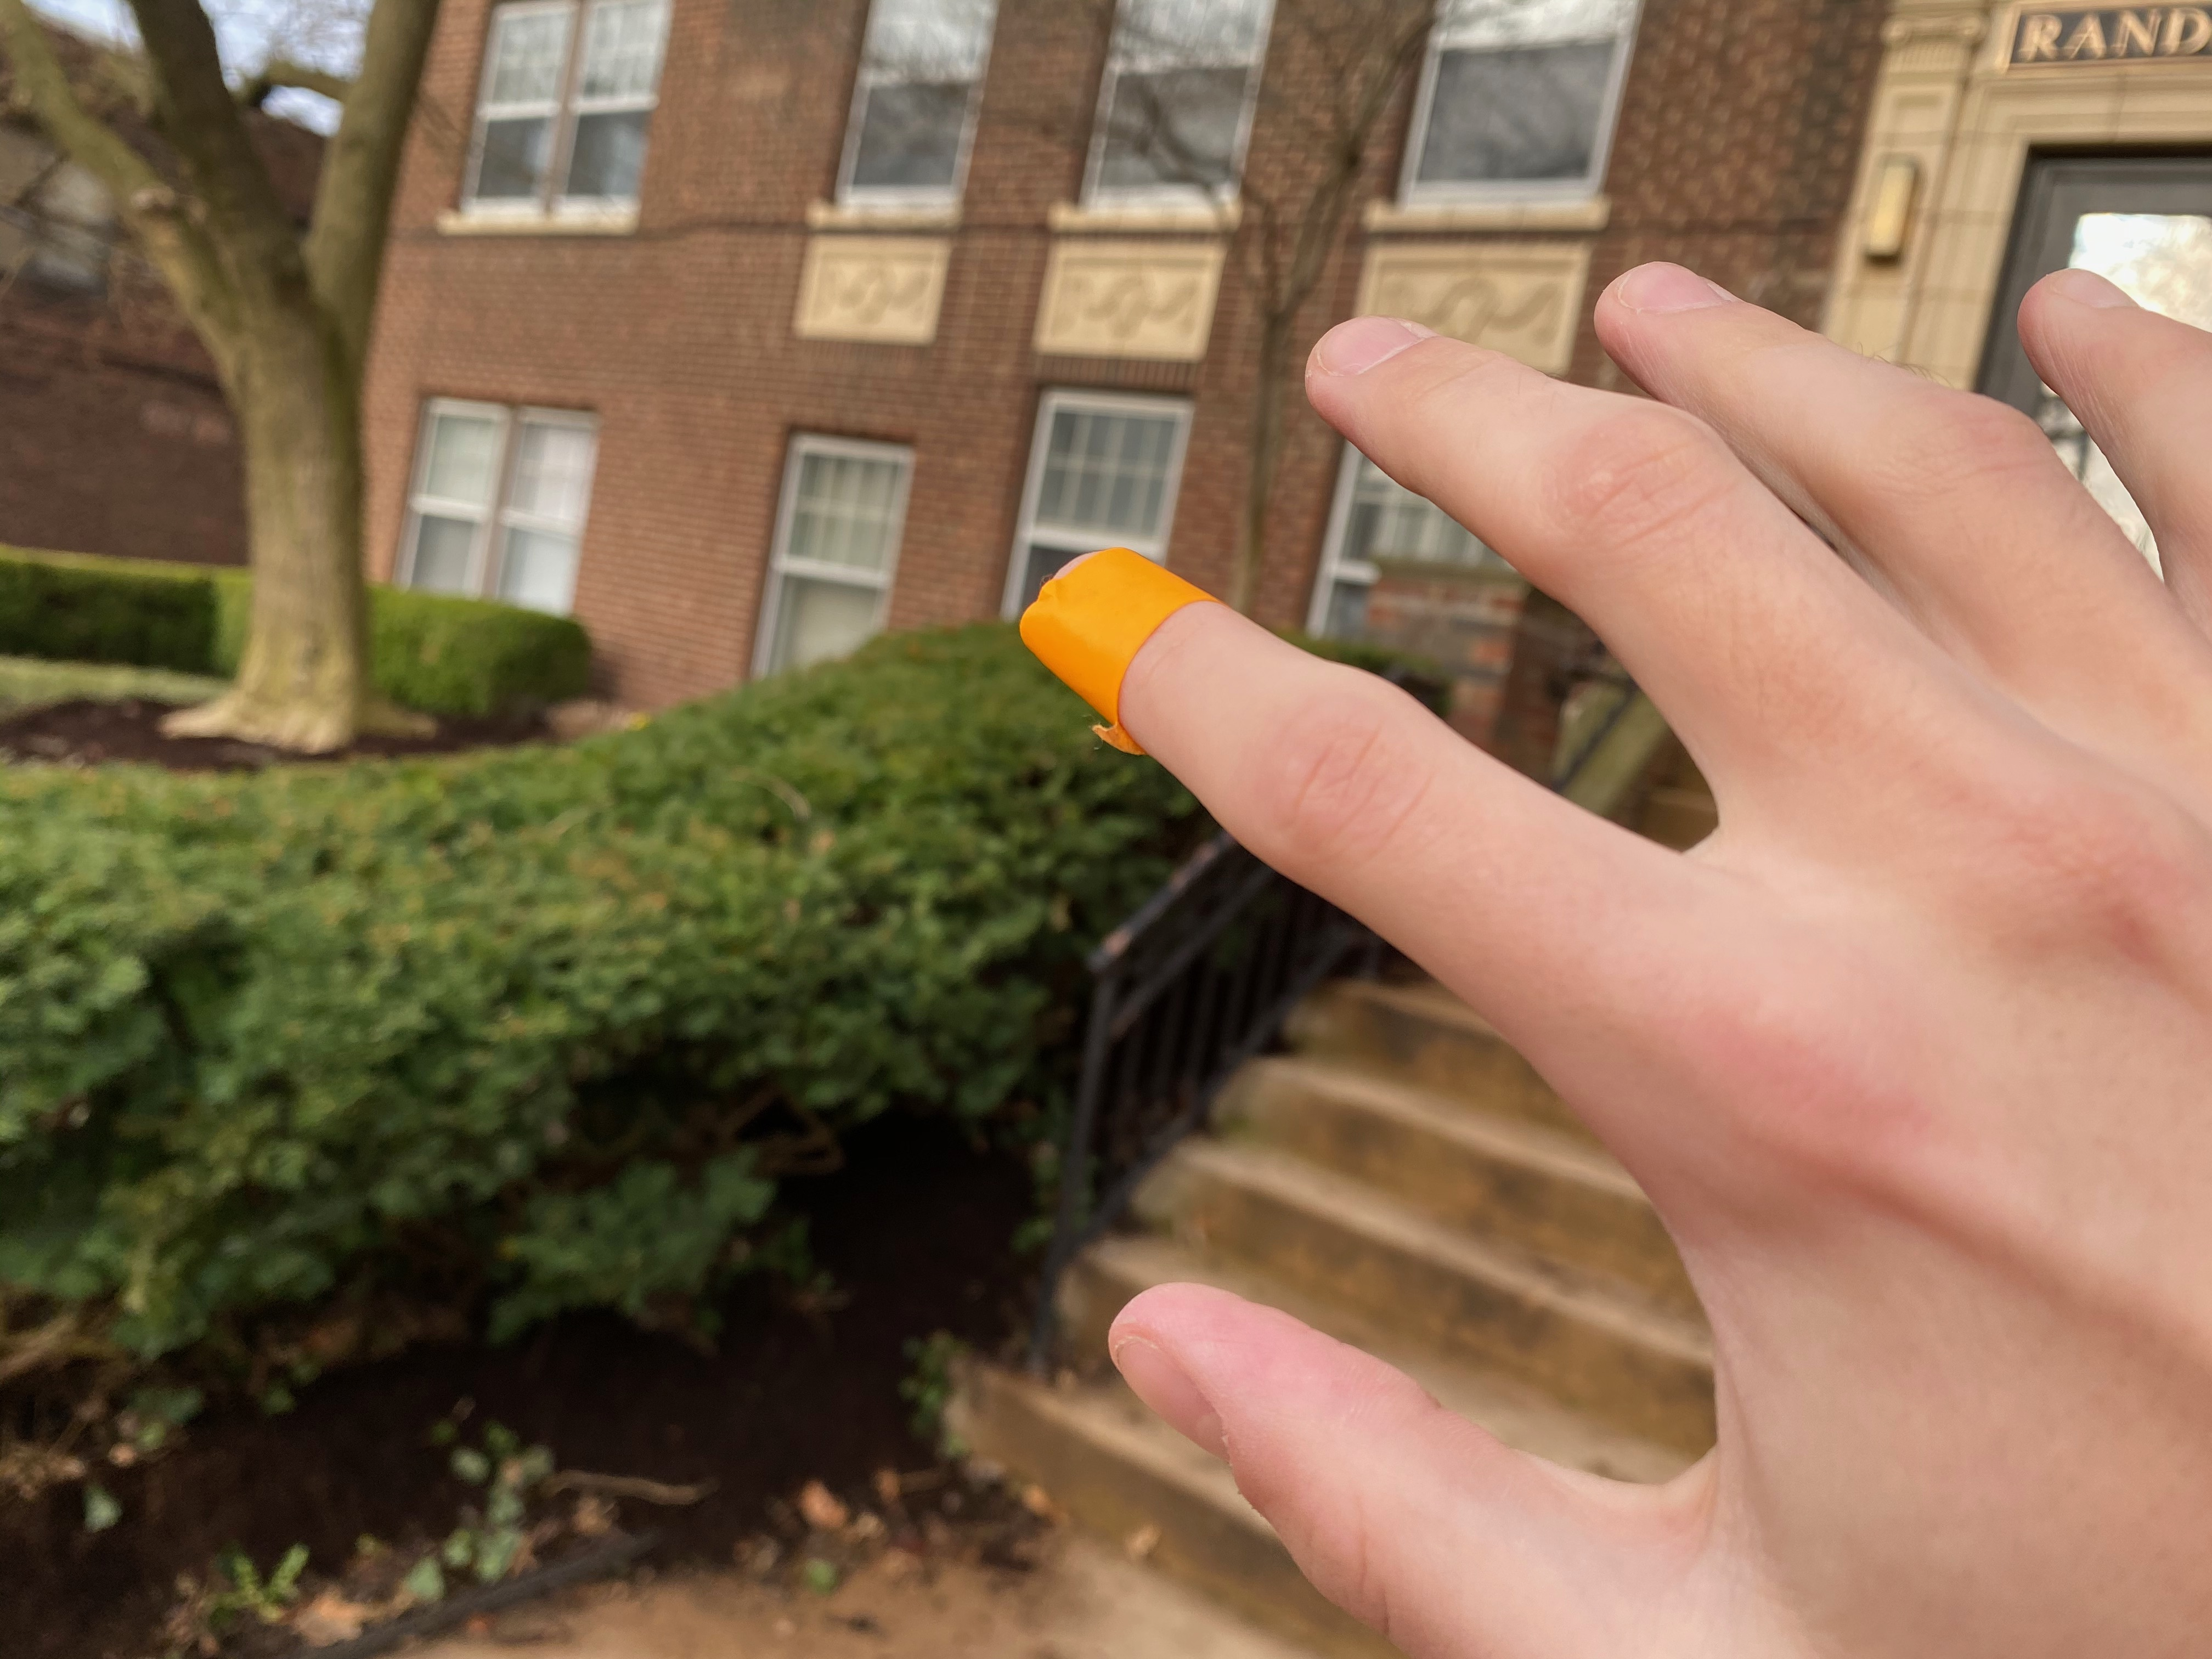fingertip: (932, 526, 1318, 795)
